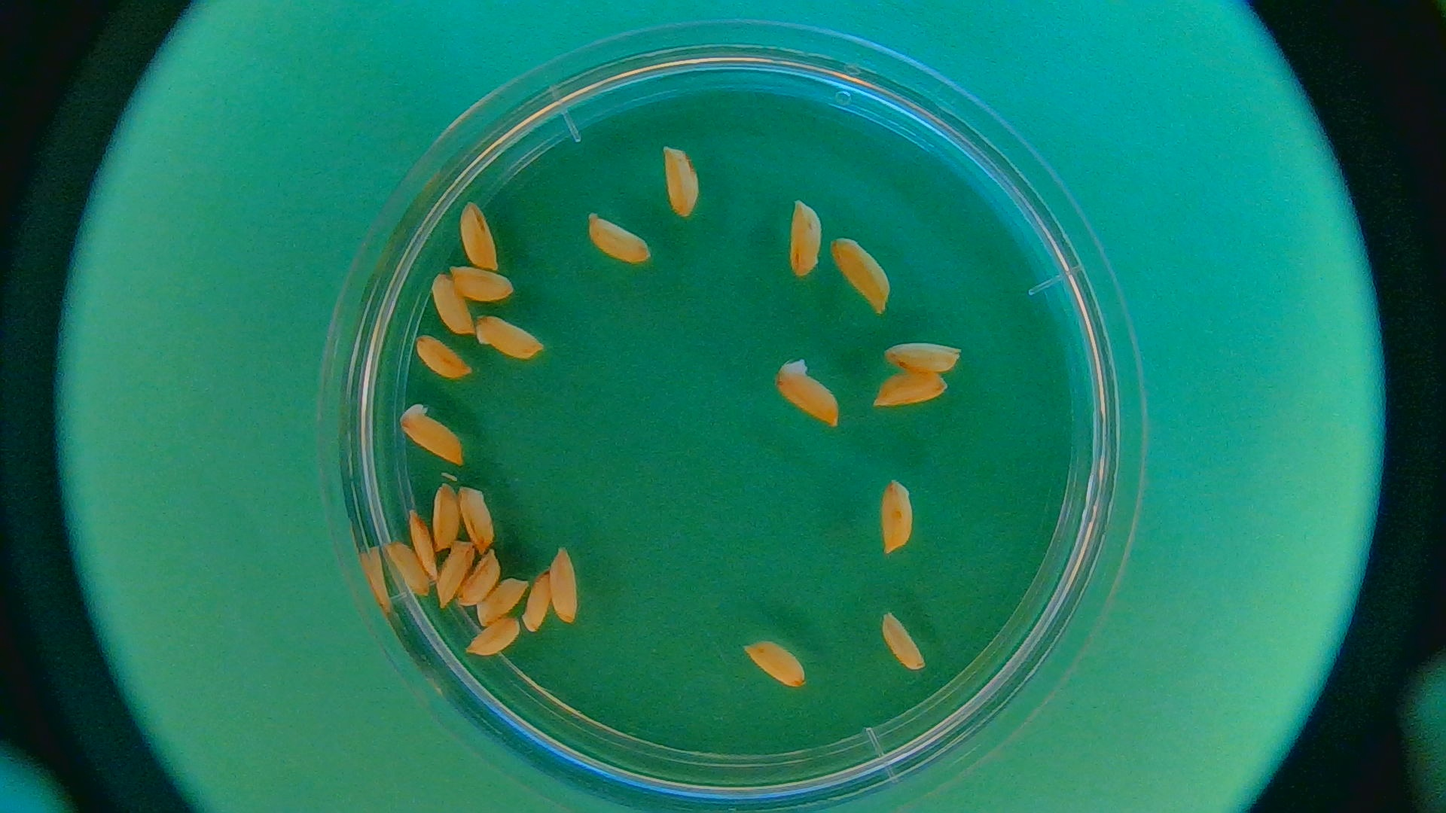no: (394, 400, 476, 473), (450, 190, 506, 273), (475, 309, 548, 371), (832, 237, 892, 312), (778, 359, 841, 427), (781, 197, 826, 286), (868, 370, 955, 414), (423, 270, 477, 340), (436, 262, 523, 305), (407, 335, 476, 388), (880, 335, 966, 375), (584, 216, 652, 263), (743, 638, 808, 687), (457, 479, 500, 552), (382, 539, 428, 606), (551, 542, 587, 626), (464, 614, 520, 668), (453, 550, 503, 609), (474, 574, 529, 626), (426, 480, 465, 550), (880, 612, 926, 671), (879, 478, 915, 553), (407, 507, 443, 580), (664, 148, 700, 218), (522, 564, 554, 637)
